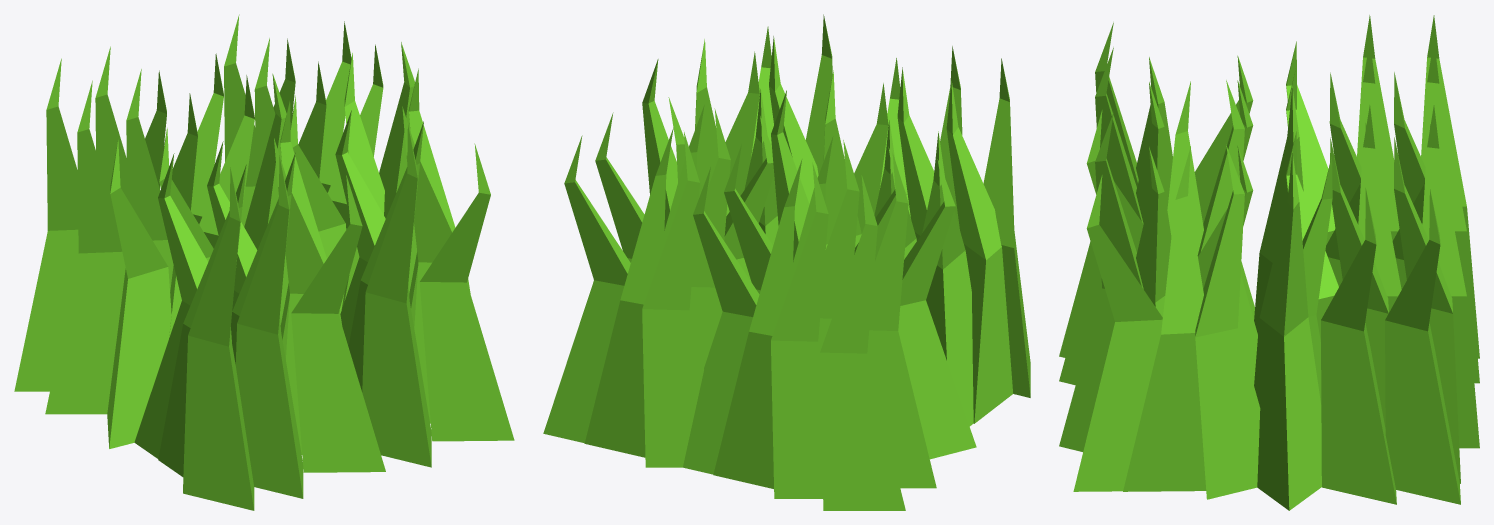
Rendered from wheat.fbx.
3 views of the same model, side by side, from view 1: azimuth 30°, elevation 25°; view 2: azimuth 150°, elevation 25°; view 3: azimuth 270°, elevation 25° (orthographic). The views are drawn at different scales.
Visible parts, largest first — view 1: Cone.025; view 2: Cone.025; view 3: Cone.025.
Boxes of the visible parts, <box> form: Cone.025: <box>14,14,514,510</box>; Cone.025: <box>543,14,1030,510</box>; Cone.025: <box>1059,15,1479,510</box>.
Size of the model in its own units: 248 by 212 by 240.
